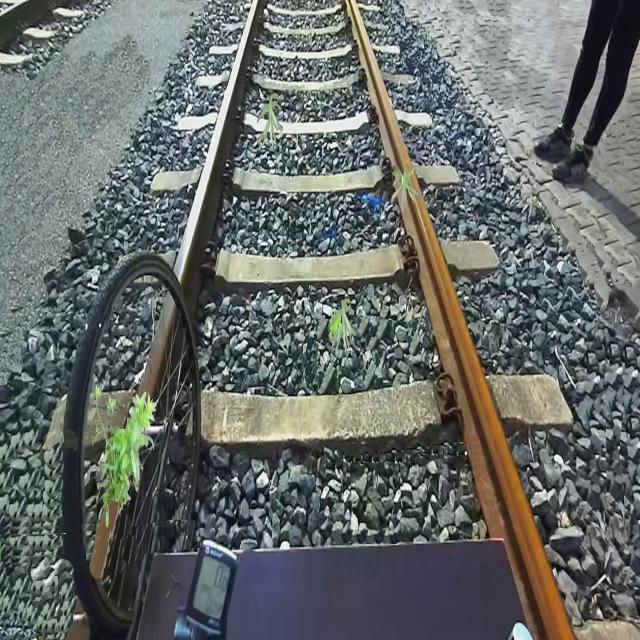Plant: (92, 384, 156, 528), (257, 93, 284, 150), (330, 297, 357, 354), (390, 165, 422, 211), (328, 310, 348, 343)
